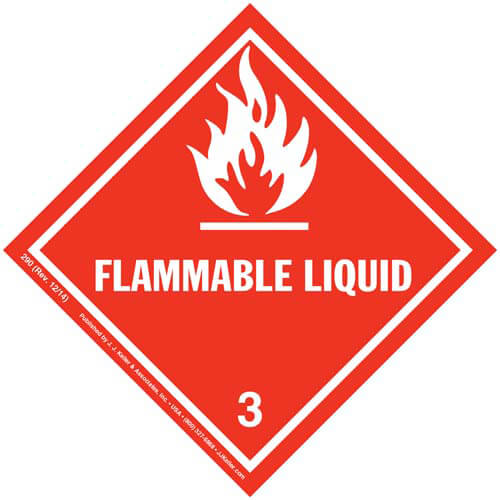FlammableLiquid: (26, 20, 480, 467)
